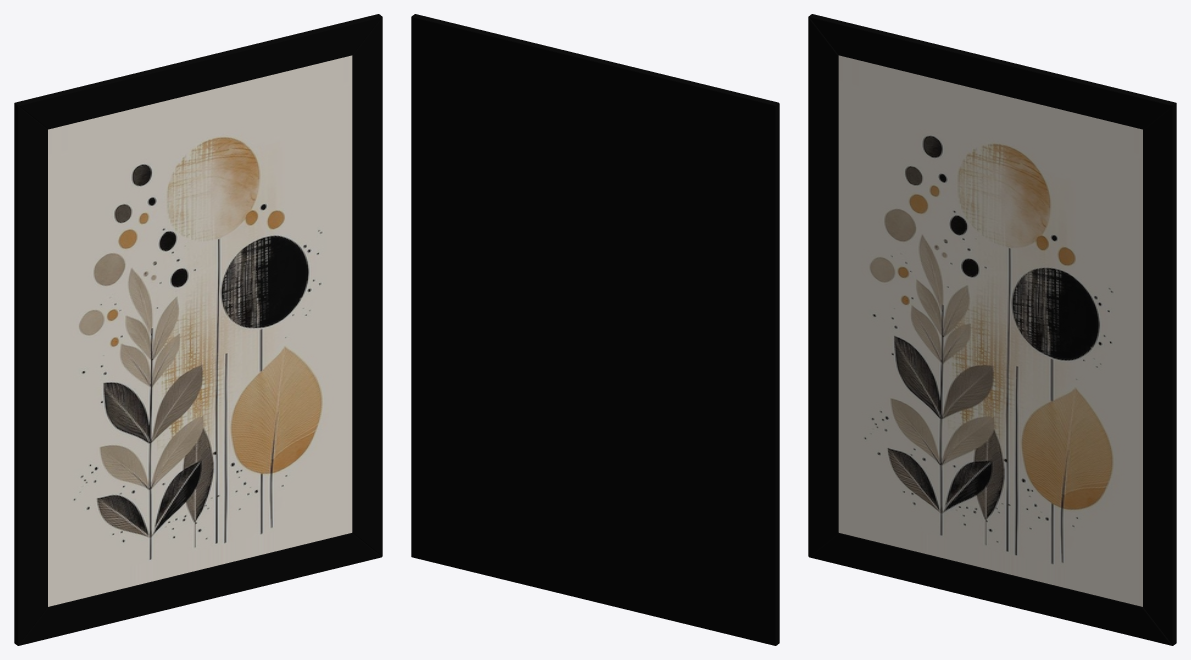
File: chic_boho_art.glb
3 views of the same model, side by side, from view 1: azimuth 30°, elevation 25°; view 2: azimuth 150°, elevation 25°; view 3: azimuth 330°, elevation 25° (orthographic).
Parts seen in each view (by area): view 1: Plane.028_1, Plane.027_0; view 2: Plane.027_0; view 3: Plane.028_1, Plane.027_0.
Part boxes in pixels (box(x1,y1,x2,y2)): Plane.028_1: box(48, 55, 352, 606); Plane.027_0: box(14, 14, 382, 645); Plane.027_0: box(411, 14, 779, 645); Plane.028_1: box(838, 55, 1142, 606); Plane.027_0: box(808, 14, 1176, 645).
Size of the model in its own units: 0.048 by 0.068 by 0.000907.
3 materials, 1 textured.
